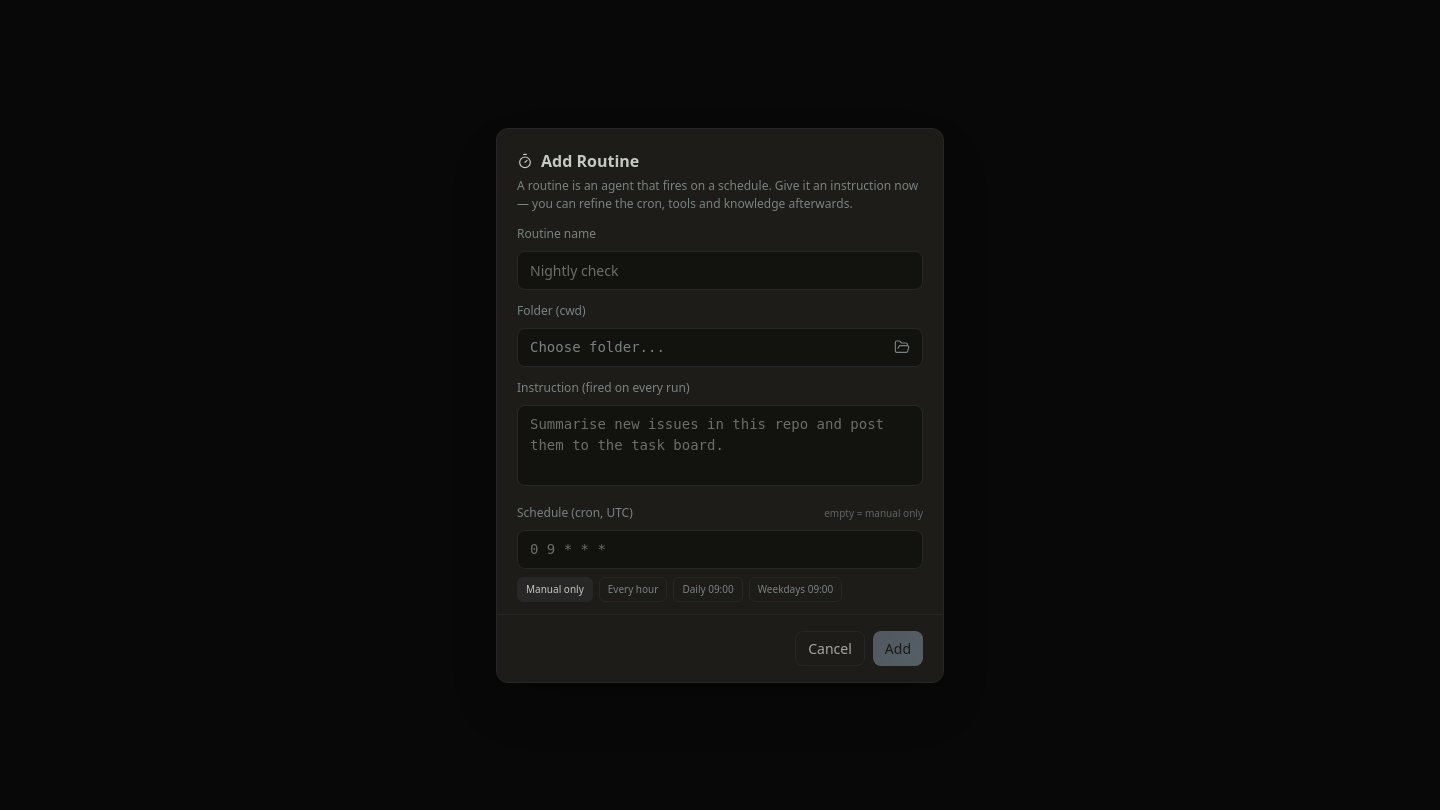
AddRoutineItemDialog › blocks Add and explains a cron schedule with the wrong field count
The image size is (1440, 810).
Type "Broken" into the field with placeholder "Nightly check" at {"x": 720, "y": 270}, box [517,250,923,290]
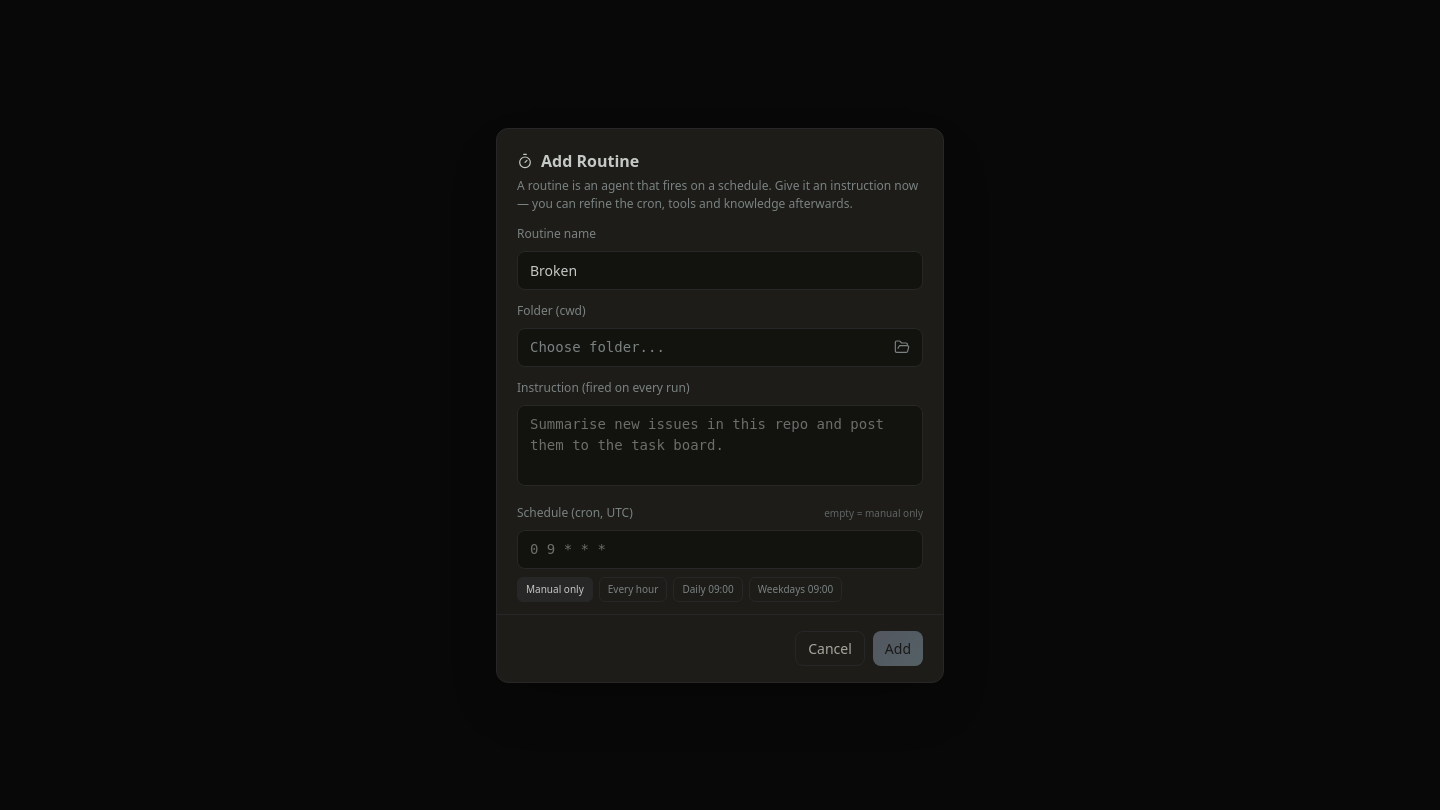
Type "* * *" into the field labelled "Schedule (cron, UTC)" at {"x": 720, "y": 549}, box [517,530,923,568]
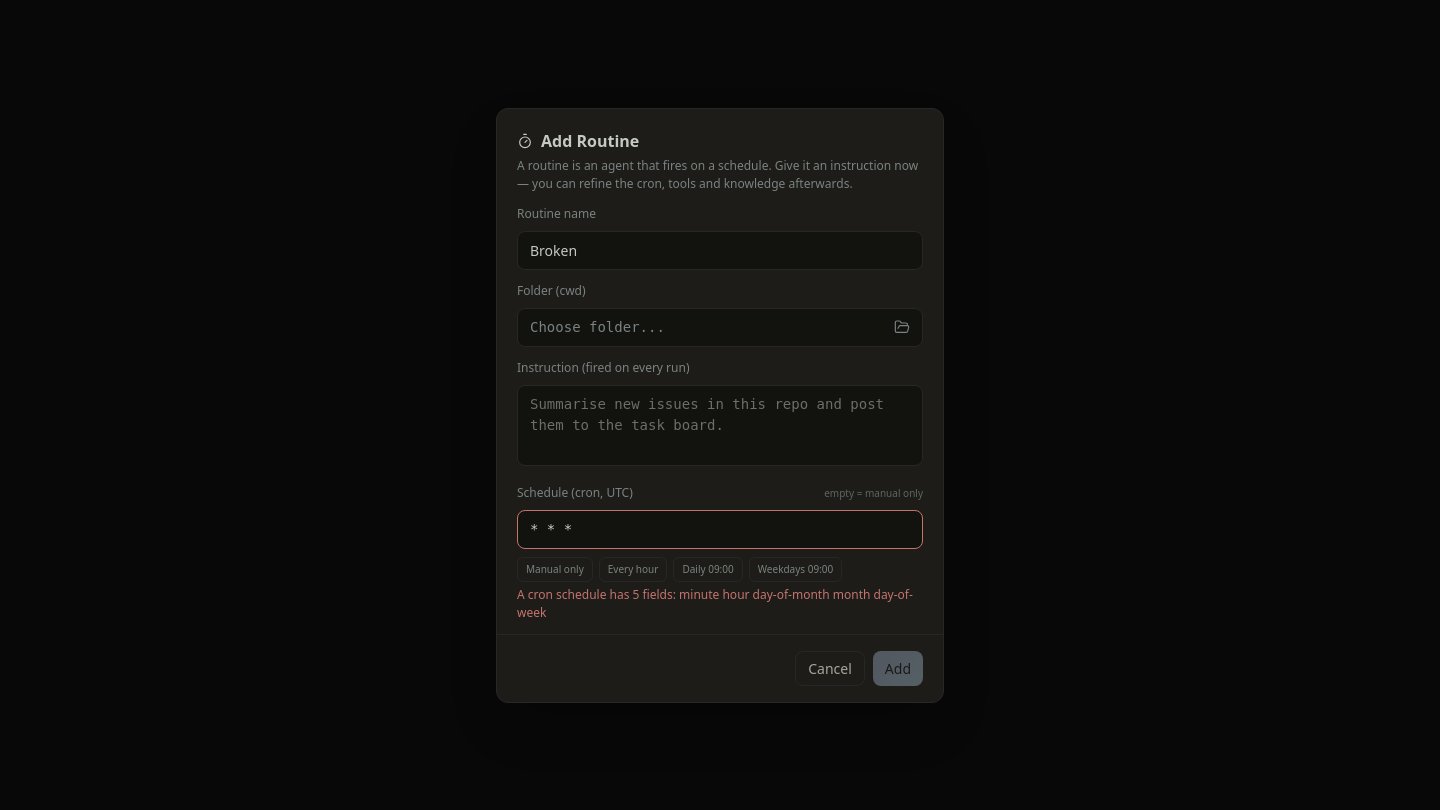
Expected: the text "5 fields" is shown, [517,586,913,620]
